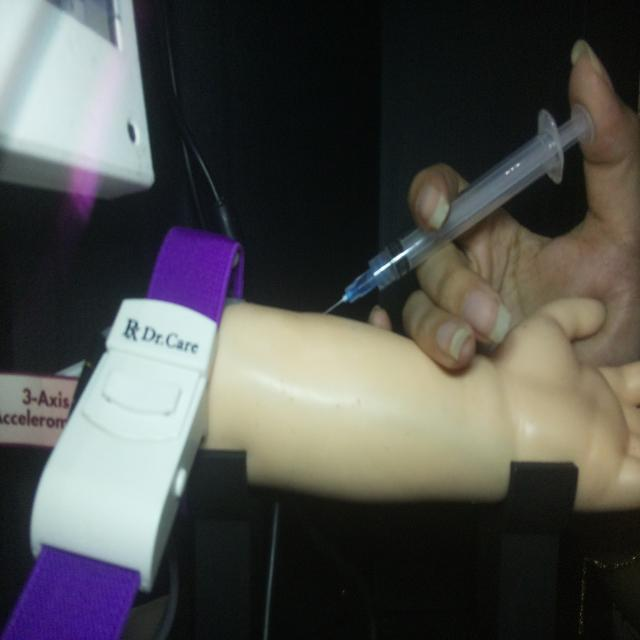27 degrees: (322, 99, 595, 317)
